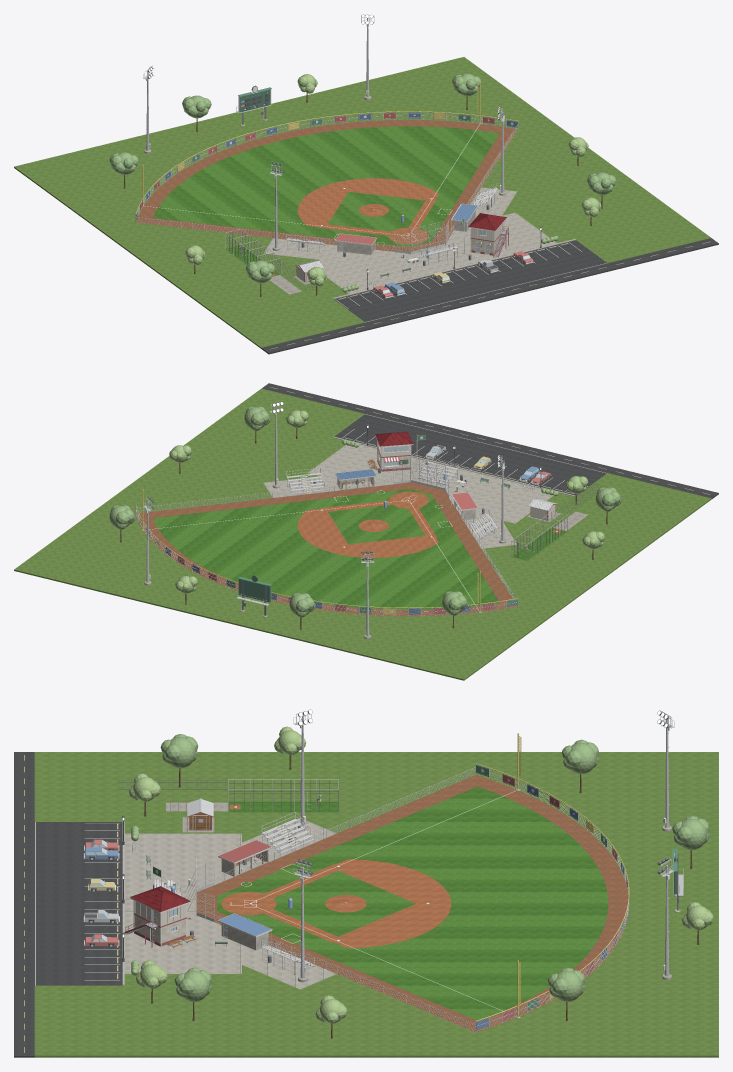
File: building_assembled.glb
3 views of the same model, one above another, from view 1: azimuth 30°, elevation 25°; view 2: azimuth 150°, elevation 25°; view 3: azimuth 270°, elevation 25° (orthographic). The views are drawn at different scales.
Parts seen in each view (by area): view 1: geometry_0, geometry_9, geometry_8, geometry_5, geometry_1, geometry_11, geometry_10, geometry_28, geometry_38, geometry_37, geometry_316; view 2: geometry_0, geometry_8, geometry_9, geometry_5, geometry_1, geometry_11, geometry_10, geometry_28, geometry_38, geometry_36, geometry_316, geometry_312 (+8 smaller); view 3: geometry_0, geometry_9, geometry_8, geometry_5, geometry_1, geometry_11, geometry_10, geometry_28, geometry_316, geometry_312, geometry_37, geometry_36 (+19 smaller).
Boxes of the visible parts, x1,y1,x2,y2 form: geometry_0: (14,57,710,348); geometry_9: (153,126,499,245); geometry_8: (159,126,499,247); geometry_5: (261,238,718,354); geometry_1: (263,187,556,293); geometry_11: (136,120,517,253); geometry_10: (297,178,438,244); geometry_28: (135,111,518,222); geometry_38: (393,220,448,256); geometry_37: (135,217,393,251); geometry_316: (225,231,317,290); geometry_0: (14,388,711,680); geometry_8: (153,490,491,609); geometry_9: (159,489,499,609); geometry_5: (262,383,718,498); geometry_1: (263,444,553,548); geometry_11: (136,482,517,616); geometry_10: (297,491,438,557); geometry_28: (135,505,518,616); geometry_38: (393,456,448,497); geometry_36: (135,478,393,512); geometry_316: (512,483,603,557); geometry_312: (512,528,566,560); geometry_0: (34,752,718,1057); geometry_9: (217,787,608,1008); geometry_8: (217,786,608,1020); geometry_5: (14,752,122,1057); geometry_1: (124,818,336,989); geometry_11: (196,775,628,1032); geometry_10: (221,859,451,948); geometry_28: (475,763,629,1031); geometry_316: (118,780,338,811); geometry_312: (228,801,338,812); geometry_37: (214,767,475,883); geometry_36: (214,915,475,1032).
Size of the model in its own units: 104 by 19.11 by 102.
Materials: 97 (22 with a texture image).
